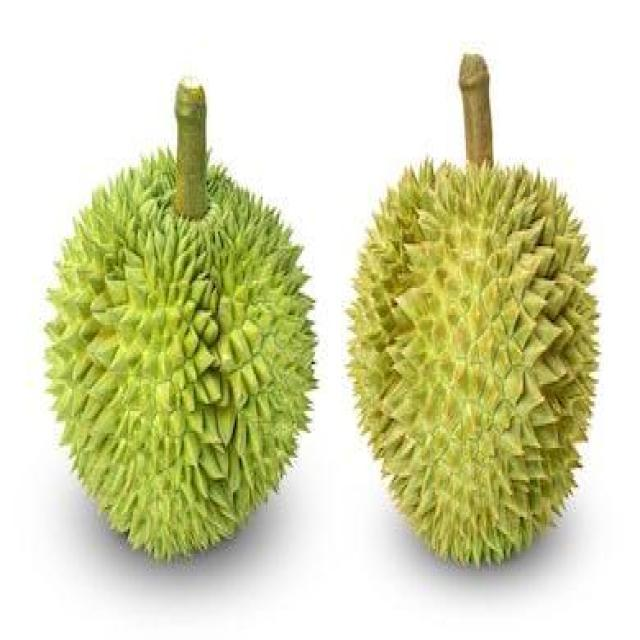immature: (41, 150, 320, 556)
mature: (347, 154, 601, 574)
